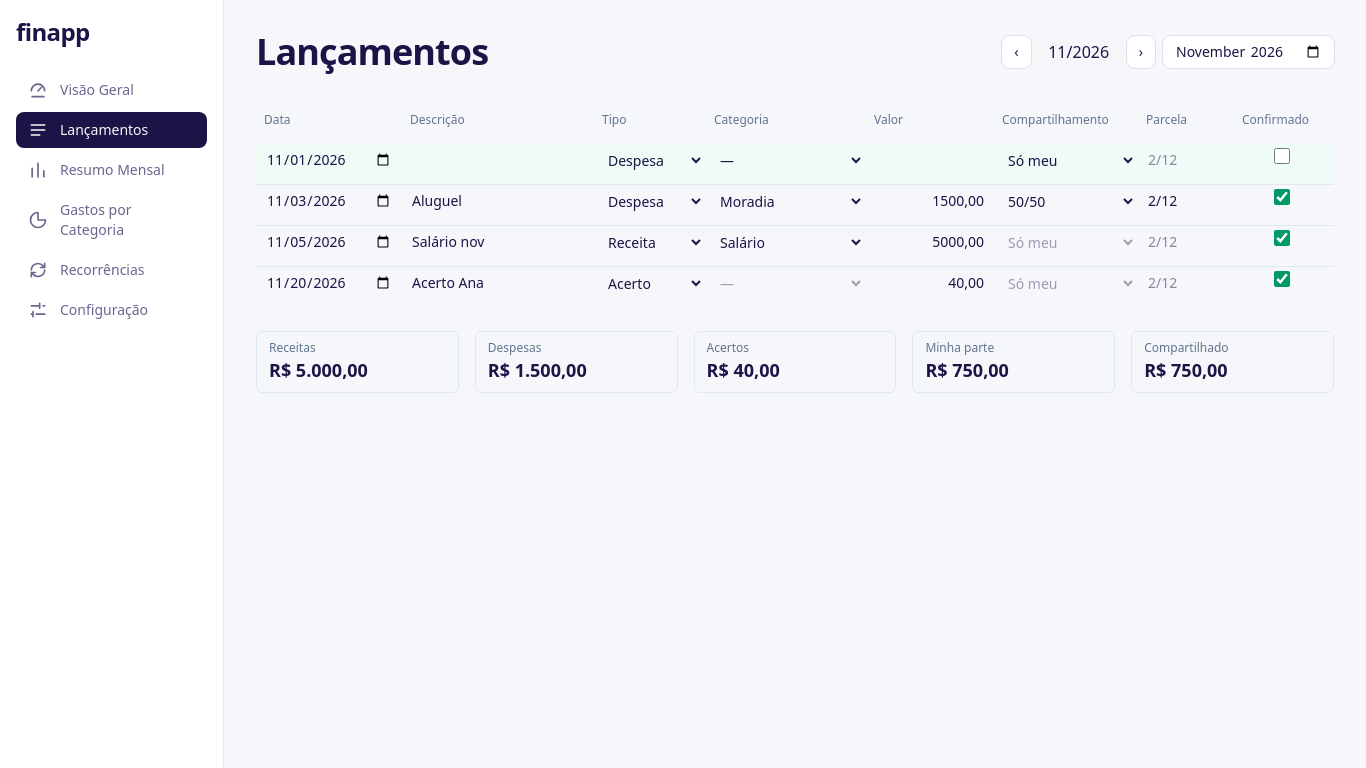
Month navigation › jumps to a month picked from the calendar
This screenshot has width=1366, height=768.
Expected: the heading "Lançamentos" is shown, [256,32,488,72]
Replace the text in the field named "Mês" with "2026-12". click: (1248, 52)
box: [1163,36,1334,68]
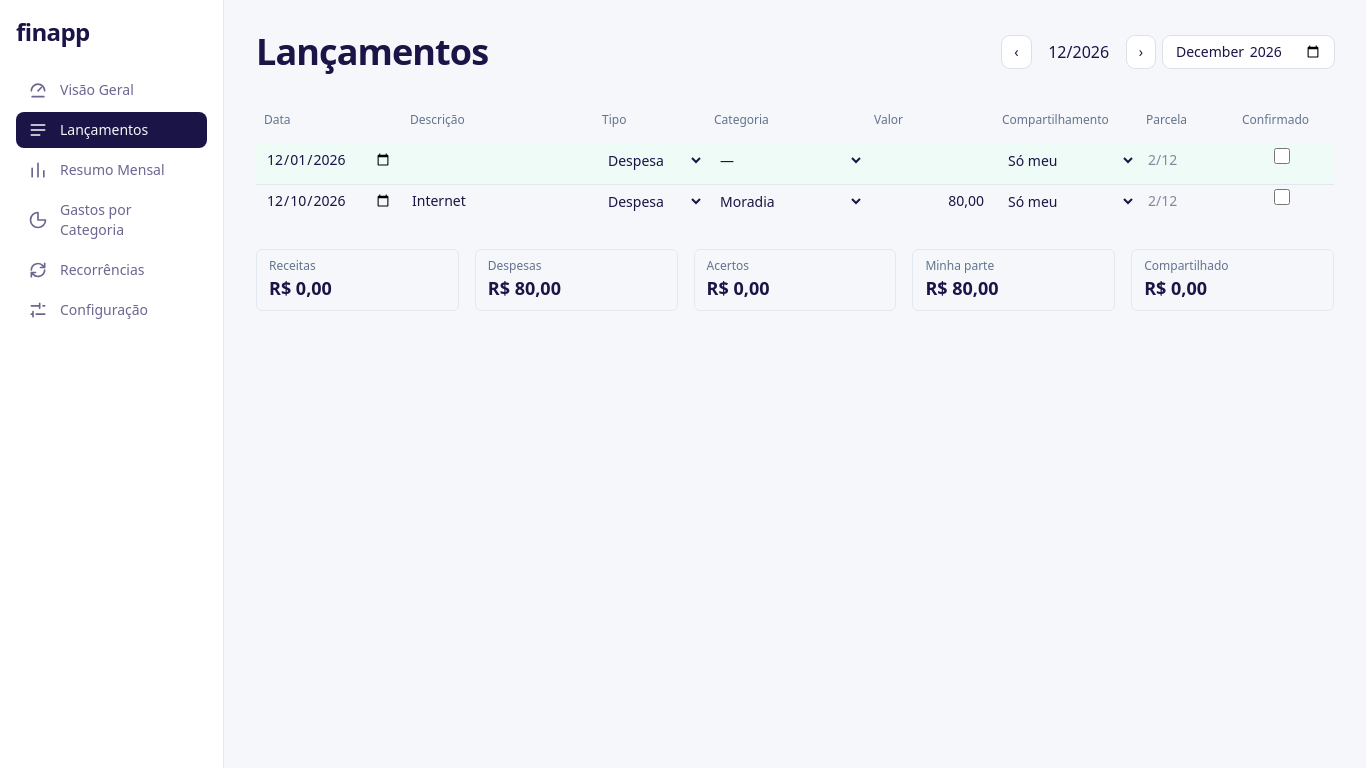
Now the row named "Internet" is shown, box [256,184,1334,225]
